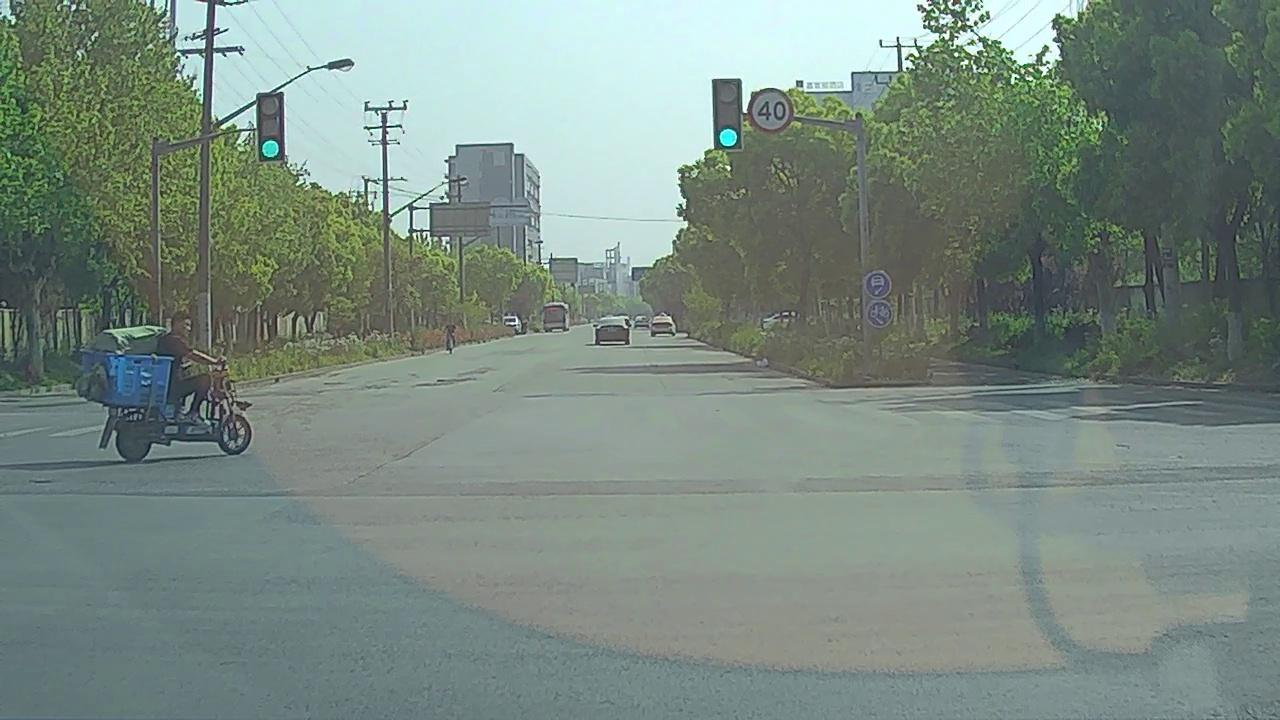traffic_light: (714, 79, 742, 150), (259, 94, 283, 160)
